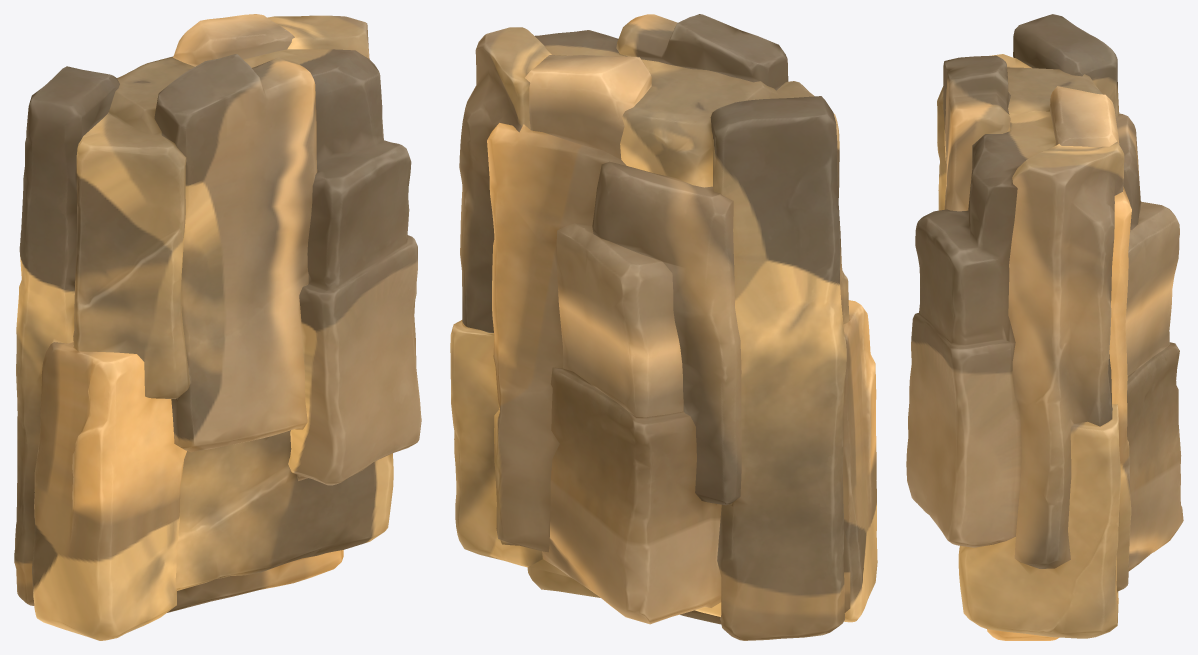
File: SM_Vertical_Cliff_01.fbx
3 views of the same model, side by side, from view 1: azimuth 30°, elevation 25°; view 2: azimuth 150°, elevation 25°; view 3: azimuth 270°, elevation 25° (orthographic). The views are drawn at different scales.
Visible parts, largest first — view 1: SM_Vertical_Cliff_01_LOD0; view 2: SM_Vertical_Cliff_01_LOD0; view 3: SM_Vertical_Cliff_01_LOD0.
Part boxes in pixels (bbox=[...]): SM_Vertical_Cliff_01_LOD0: bbox=[14, 14, 421, 640]; SM_Vertical_Cliff_01_LOD0: bbox=[450, 14, 877, 640]; SM_Vertical_Cliff_01_LOD0: bbox=[906, 14, 1183, 640].
Bounding box in the file's own units: 468 × 323 × 675.
